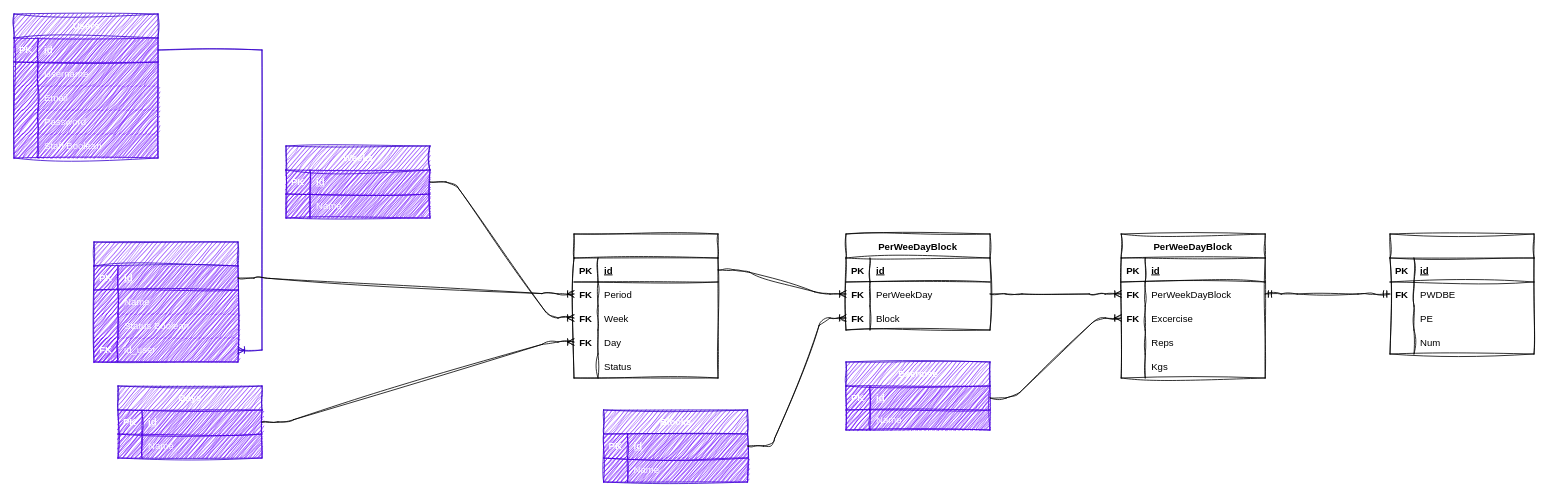
The diagram is 1548 pixels wide and 496 high, and some of its shapes have lost their labels. The box of each missing label's shape, as (x1, y1, x2, y2) in pixels:
Periods: (93, 241, 238, 362)
PeriodWeekDay: (573, 233, 718, 378)
Results: (1389, 233, 1534, 354)
